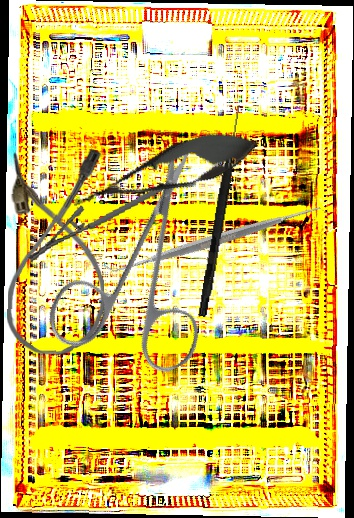Cannula: (6, 147, 107, 357)
Hook Surgical: (198, 103, 243, 318)
Iris Scissors: (3, 141, 276, 411)
Micro Scissor: (65, 117, 265, 227)
Needle Holder: (20, 183, 175, 264)
Spatula Surgical: (103, 126, 328, 353)
